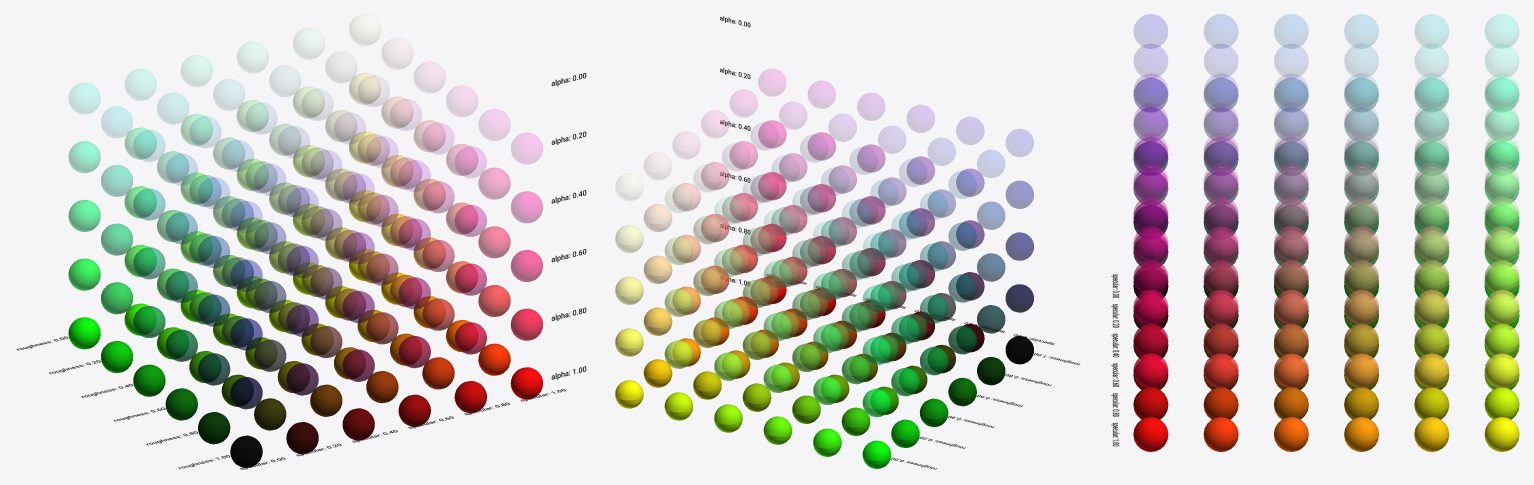
The model's file is Elements_Material.glb.
The picture shows the model from 3 angles, left to right: view 1: azimuth 30°, elevation 25°; view 2: azimuth 150°, elevation 25°; view 3: azimuth 270°, elevation 25°; orthographic projection. The views are drawn at different scales.
Parts seen in each view (by area): view 1: c1276ecc-d764-474e-8c71-97fbfe42cb61_mesh, 17e2e025-8f6c-4c2b-ba5c-5d361d364e35_mesh, 994e101f-c7fb-451c-b95d-c5a7416a6b3f_mesh, bf2998d0-9afc-4623-b0d3-500ef2dae5ee_mesh, da013e12-a718-4152-a038-7f9e8a732a22_mesh, 9de9d60c-bba7-4c7d-8583-639ca9dbd067_mesh, ead902d0-3589-4a38-aec8-d516576b4084_mesh, 8fc5164a-3fbb-4a6f-ba69-d820e871a351_mesh, 6ca290b6-7c9d-4eb4-a67b-d89592fbb980_mesh, 21c341f1-e24f-4446-917c-ee9a4f766fa3_mesh, 040c313f-52df-4cf8-b569-35d9c09812f9_mesh, 19e9f379-68b6-4c43-a17d-12c0e42c7255_mesh (+161 smaller); view 2: c1276ecc-d764-474e-8c71-97fbfe42cb61_mesh, f3f314bb-6a37-42d0-a8d4-8d7799b5f429_mesh, 29641a51-1b90-4f1a-a67f-5185874c80b1_mesh, be2469ba-56a1-4886-9ed4-d21e2bce02b4_mesh, c57f9239-a1a0-43ee-973c-63333772ccf6_mesh, 1ae823fe-3f7b-44d5-a206-b7401c3bbcac_mesh, c9baca2b-68f9-4e8c-b4bf-81e47929b5bf_mesh, f77122a3-a610-49fe-9754-6e10c8c64ad1_mesh, 040c313f-52df-4cf8-b569-35d9c09812f9_mesh, 6527c68f-a548-45ab-be54-d0935ebcaae9_mesh, 1ec150fb-5562-4218-9e60-57da10e47925_mesh, 0d5f6718-b396-4296-b858-398b8d71df03_mesh (+161 smaller); view 3: 2170bec8-80ff-4b78-9599-a17d045c3bba_mesh, c9baca2b-68f9-4e8c-b4bf-81e47929b5bf_mesh, f0b5bc6d-1156-44f4-ba57-8e1985783836_mesh, 3042c976-9f8d-4217-81b8-6dbda70046f8_mesh, 45e0a8d5-429a-4bbf-8ead-e6062987fce4_mesh, a0be2d5f-372a-49b1-918f-b19a7212302f_mesh, c26d7aae-333b-4c4a-a2e2-debd26fe8c66_mesh, ead902d0-3589-4a38-aec8-d516576b4084_mesh, aa76ac54-1cbf-46d8-bc02-58bc4899c987_mesh, c57f9239-a1a0-43ee-973c-63333772ccf6_mesh, a436e578-8d64-49fd-8fc3-c694c4ba6e20_mesh, 1e86d006-e304-4bfe-bfd0-e00c4b131aa8_mesh (+157 smaller).
Part boxes in pixels (x1,y1,x2,y2): c1276ecc-d764-474e-8c71-97fbfe42cb61_mesh: (16,73,586,469); 17e2e025-8f6c-4c2b-ba5c-5d361d364e35_mesh: (68,258,100,290); 994e101f-c7fb-451c-b95d-c5a7416a6b3f_mesh: (366,312,398,344); bf2998d0-9afc-4623-b0d3-500ef2dae5ee_mesh: (165,329,197,361); da013e12-a718-4152-a038-7f9e8a732a22_mesh: (230,435,262,467); 9de9d60c-bba7-4c7d-8583-639ca9dbd067_mesh: (342,408,374,440); ead902d0-3589-4a38-aec8-d516576b4084_mesh: (478,343,510,375); 8fc5164a-3fbb-4a6f-ba69-d820e871a351_mesh: (230,377,262,409); 6ca290b6-7c9d-4eb4-a67b-d89592fbb980_mesh: (165,388,197,420); 21c341f1-e24f-4446-917c-ee9a4f766fa3_mesh: (133,364,165,396); 040c313f-52df-4cf8-b569-35d9c09812f9_mesh: (68,317,100,349); 19e9f379-68b6-4c43-a17d-12c0e42c7255_mesh: (254,398,286,430); c1276ecc-d764-474e-8c71-97fbfe42cb61_mesh: (720,16,1079,469); f3f314bb-6a37-42d0-a8d4-8d7799b5f429_mesh: (714,404,742,432); 29641a51-1b90-4f1a-a67f-5185874c80b1_mesh: (693,371,721,399); be2469ba-56a1-4886-9ed4-d21e2bce02b4_mesh: (841,407,870,435); c57f9239-a1a0-43ee-973c-63333772ccf6_mesh: (615,328,643,356); 1ae823fe-3f7b-44d5-a206-b7401c3bbcac_mesh: (742,331,771,359); c9baca2b-68f9-4e8c-b4bf-81e47929b5bf_mesh: (615,380,643,408); f77122a3-a610-49fe-9754-6e10c8c64ad1_mesh: (920,347,948,375); 040c313f-52df-4cf8-b569-35d9c09812f9_mesh: (862,440,890,468); 6527c68f-a548-45ab-be54-d0935ebcaae9_mesh: (813,428,841,456); 1ec150fb-5562-4218-9e60-57da10e47925_mesh: (763,364,792,392); 0d5f6718-b396-4296-b858-398b8d71df03_mesh: (977,357,1005,385); 2170bec8-80ff-4b78-9599-a17d045c3bba_mesh: (1344,353,1378,388); c9baca2b-68f9-4e8c-b4bf-81e47929b5bf_mesh: (1484,417,1519,451); f0b5bc6d-1156-44f4-ba57-8e1985783836_mesh: (1274,353,1308,388); 3042c976-9f8d-4217-81b8-6dbda70046f8_mesh: (1414,417,1449,451); 45e0a8d5-429a-4bbf-8ead-e6062987fce4_mesh: (1414,353,1449,388); a0be2d5f-372a-49b1-918f-b19a7212302f_mesh: (1133,417,1168,451); c26d7aae-333b-4c4a-a2e2-debd26fe8c66_mesh: (1133,353,1168,388); ead902d0-3589-4a38-aec8-d516576b4084_mesh: (1203,417,1238,451); aa76ac54-1cbf-46d8-bc02-58bc4899c987_mesh: (1344,417,1378,451); c57f9239-a1a0-43ee-973c-63333772ccf6_mesh: (1484,353,1519,388); a436e578-8d64-49fd-8fc3-c694c4ba6e20_mesh: (1203,353,1238,388); 1e86d006-e304-4bfe-bfd0-e00c4b131aa8_mesh: (1274,417,1308,451).
Size of what is drawn, in the model's own units: 14.55 by 10.65 by 11.65.
Materials: 181 (1 with a texture image).
